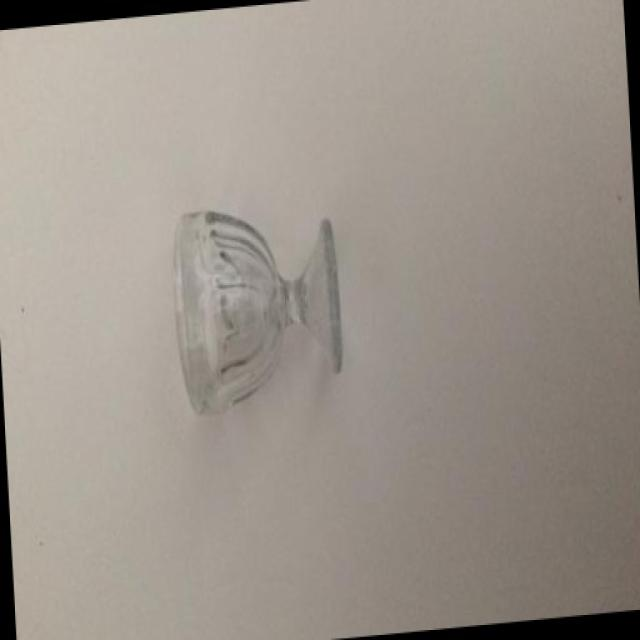vidrio: (130, 175, 447, 447)
